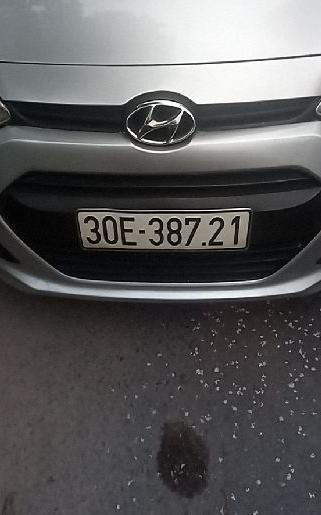Plate-iWeP: (83, 211, 250, 250)
